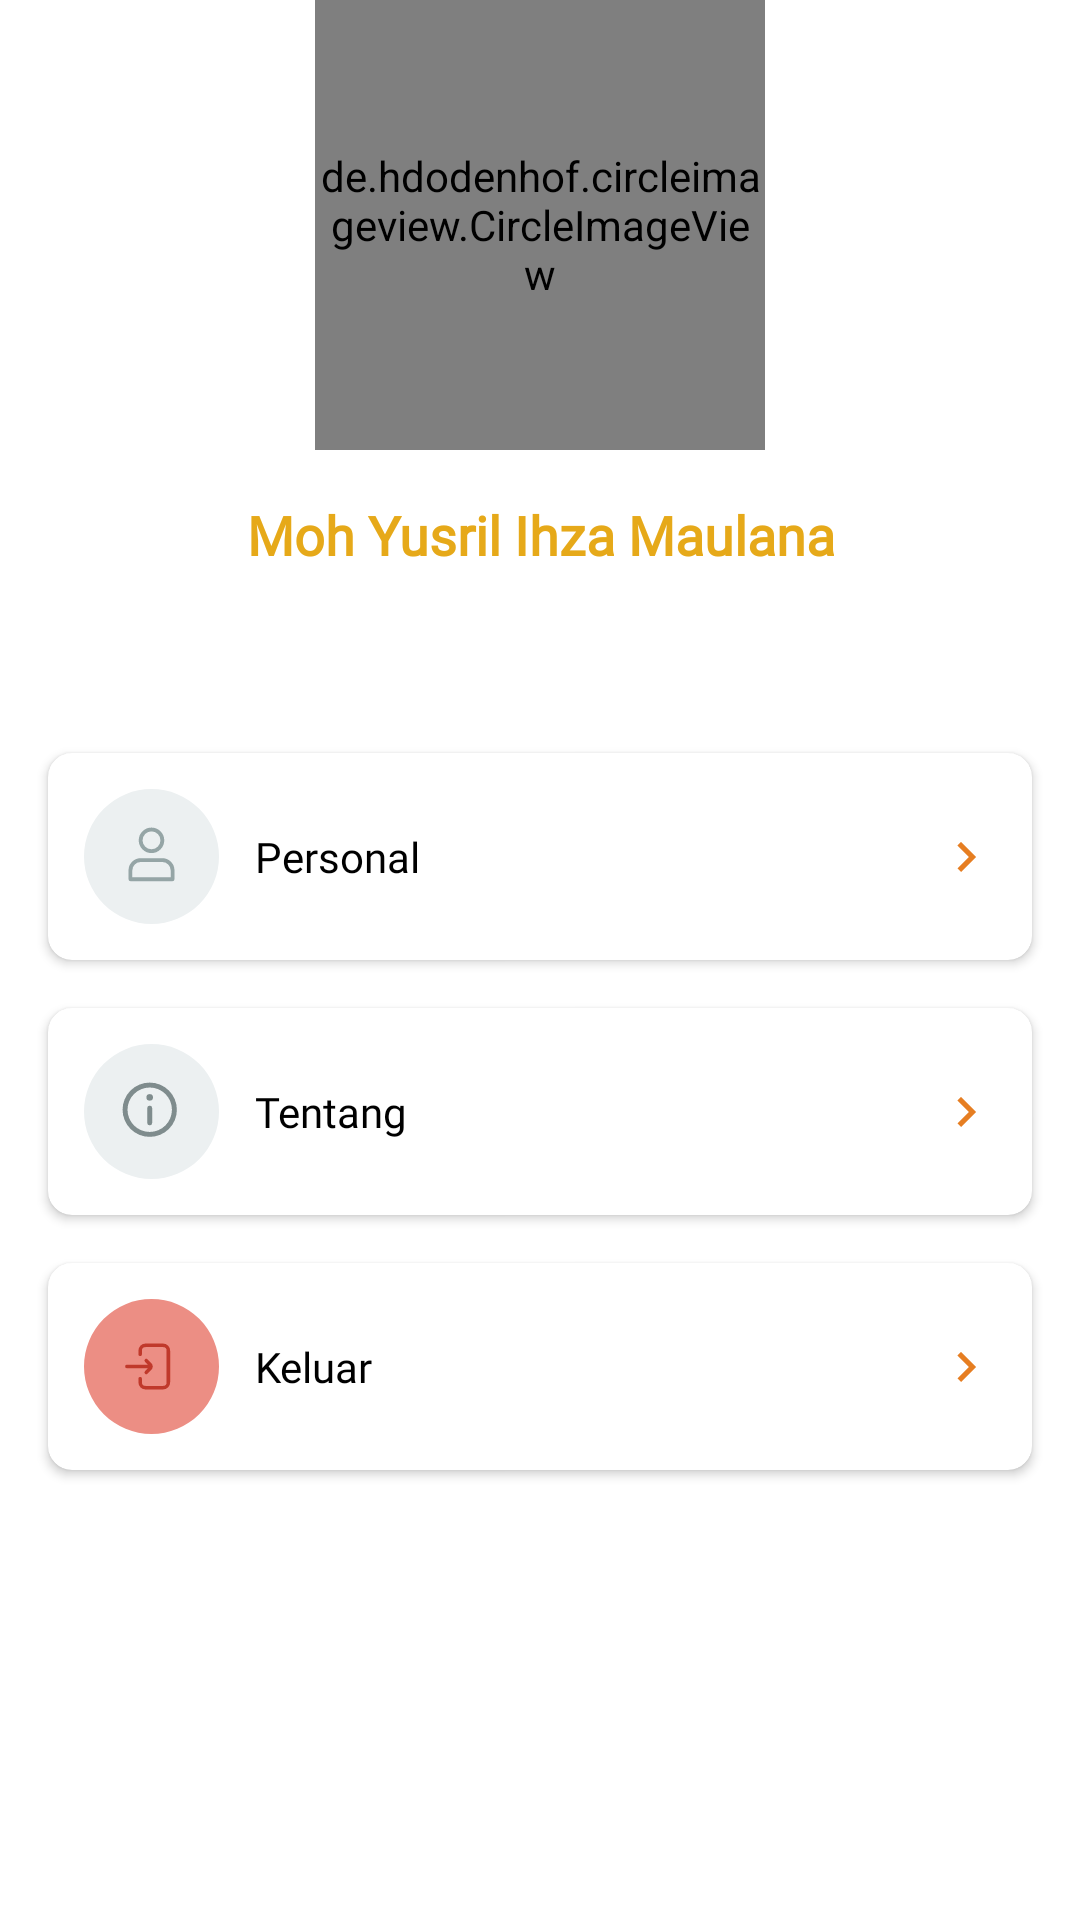

Where icons sit on this 1080px×1920px app screen, as (x1, y1, x2, y2):
akun: (84, 789, 219, 924)
chevron right: (957, 842, 976, 872), (957, 1097, 976, 1127), (957, 1352, 976, 1382)
info: (84, 1044, 219, 1179)
